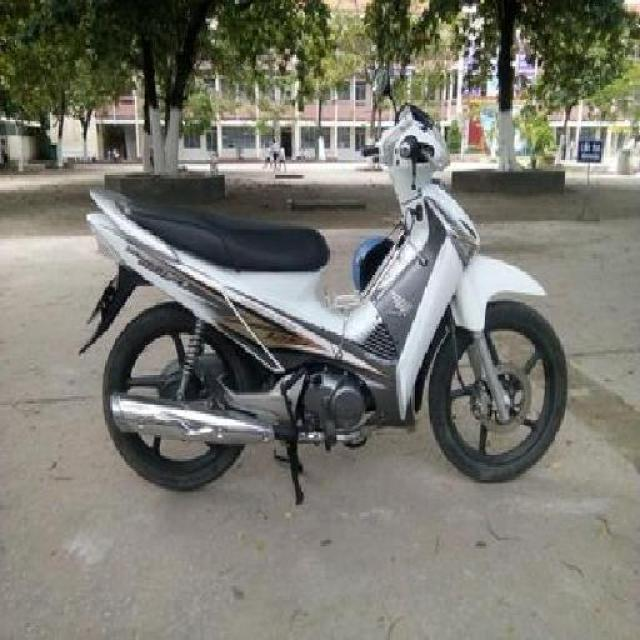All: (77, 101, 574, 492)
Head: (361, 108, 462, 181)
Tail: (82, 186, 154, 263)
